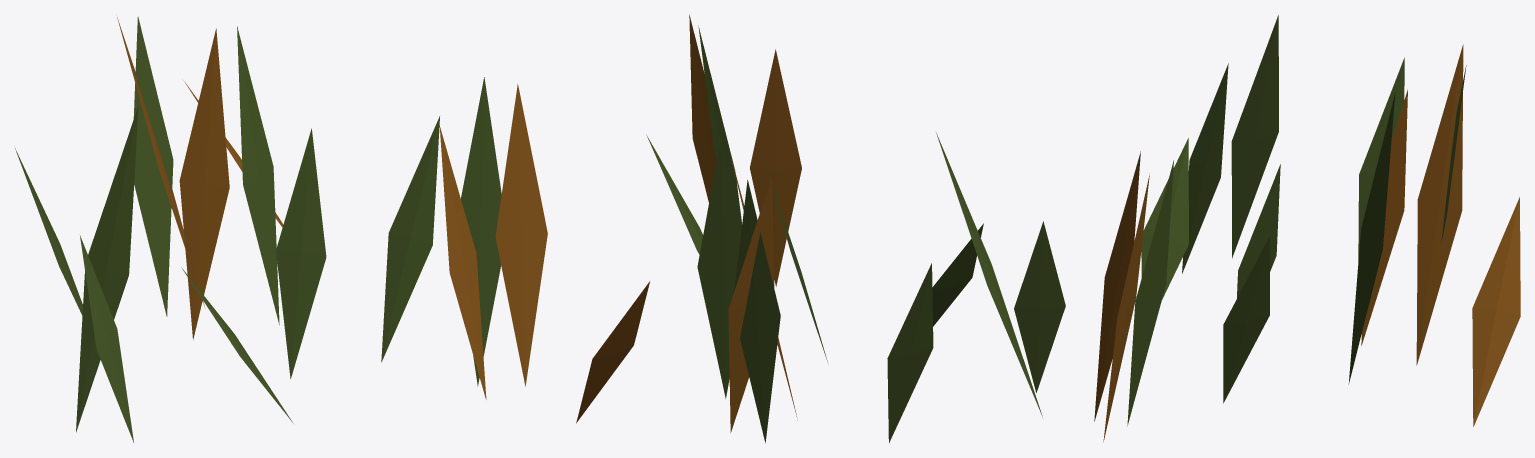
Rendered from Plant_ShortGrass_02.fbx.
3 renders of one model, left to right at view 1: azimuth 30°, elevation 25°; view 2: azimuth 150°, elevation 25°; view 3: azimuth 270°, elevation 25°, orthographic.
Visible parts, largest first — view 1: Plant_ShortGrass_02_Mesh; view 2: Plant_ShortGrass_02_Mesh; view 3: Plant_ShortGrass_02_Mesh.
Part boxes in pixels (x1,y1,x2,y2): Plant_ShortGrass_02_Mesh: (15, 16, 547, 442); Plant_ShortGrass_02_Mesh: (576, 14, 1065, 443); Plant_ShortGrass_02_Mesh: (1094, 15, 1520, 442).
Bounding box in the file's own units: 0.5058 × 0.3441 × 0.4566.
Materials: 1 (1 with a texture image).
